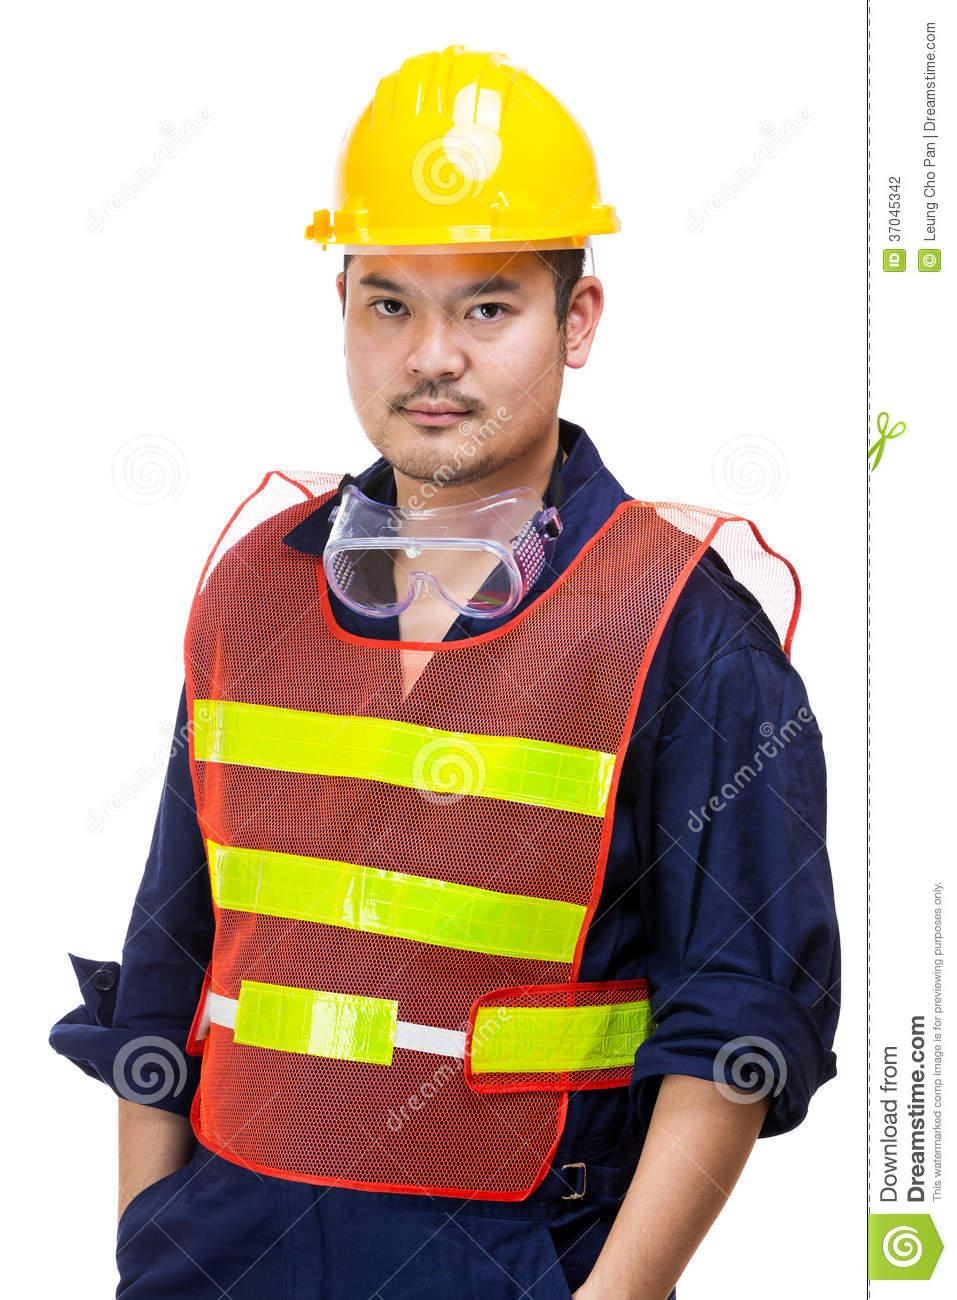helmet: (307, 43, 621, 270)
